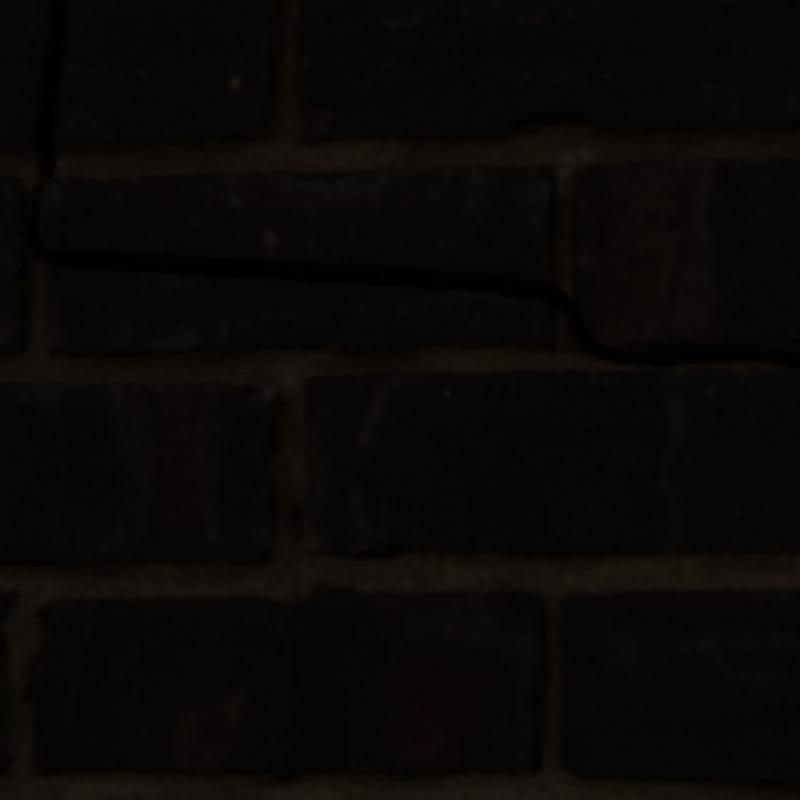crack: (21, 0, 796, 364)
